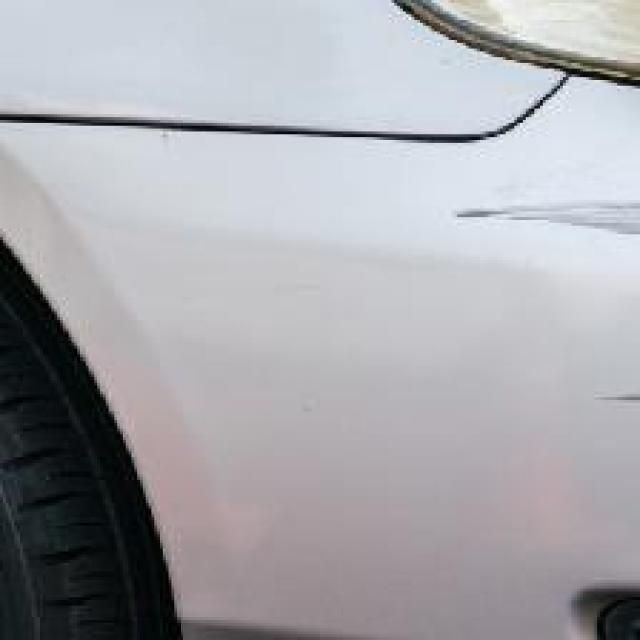damaged: (452, 197, 637, 252), (592, 389, 638, 417)
